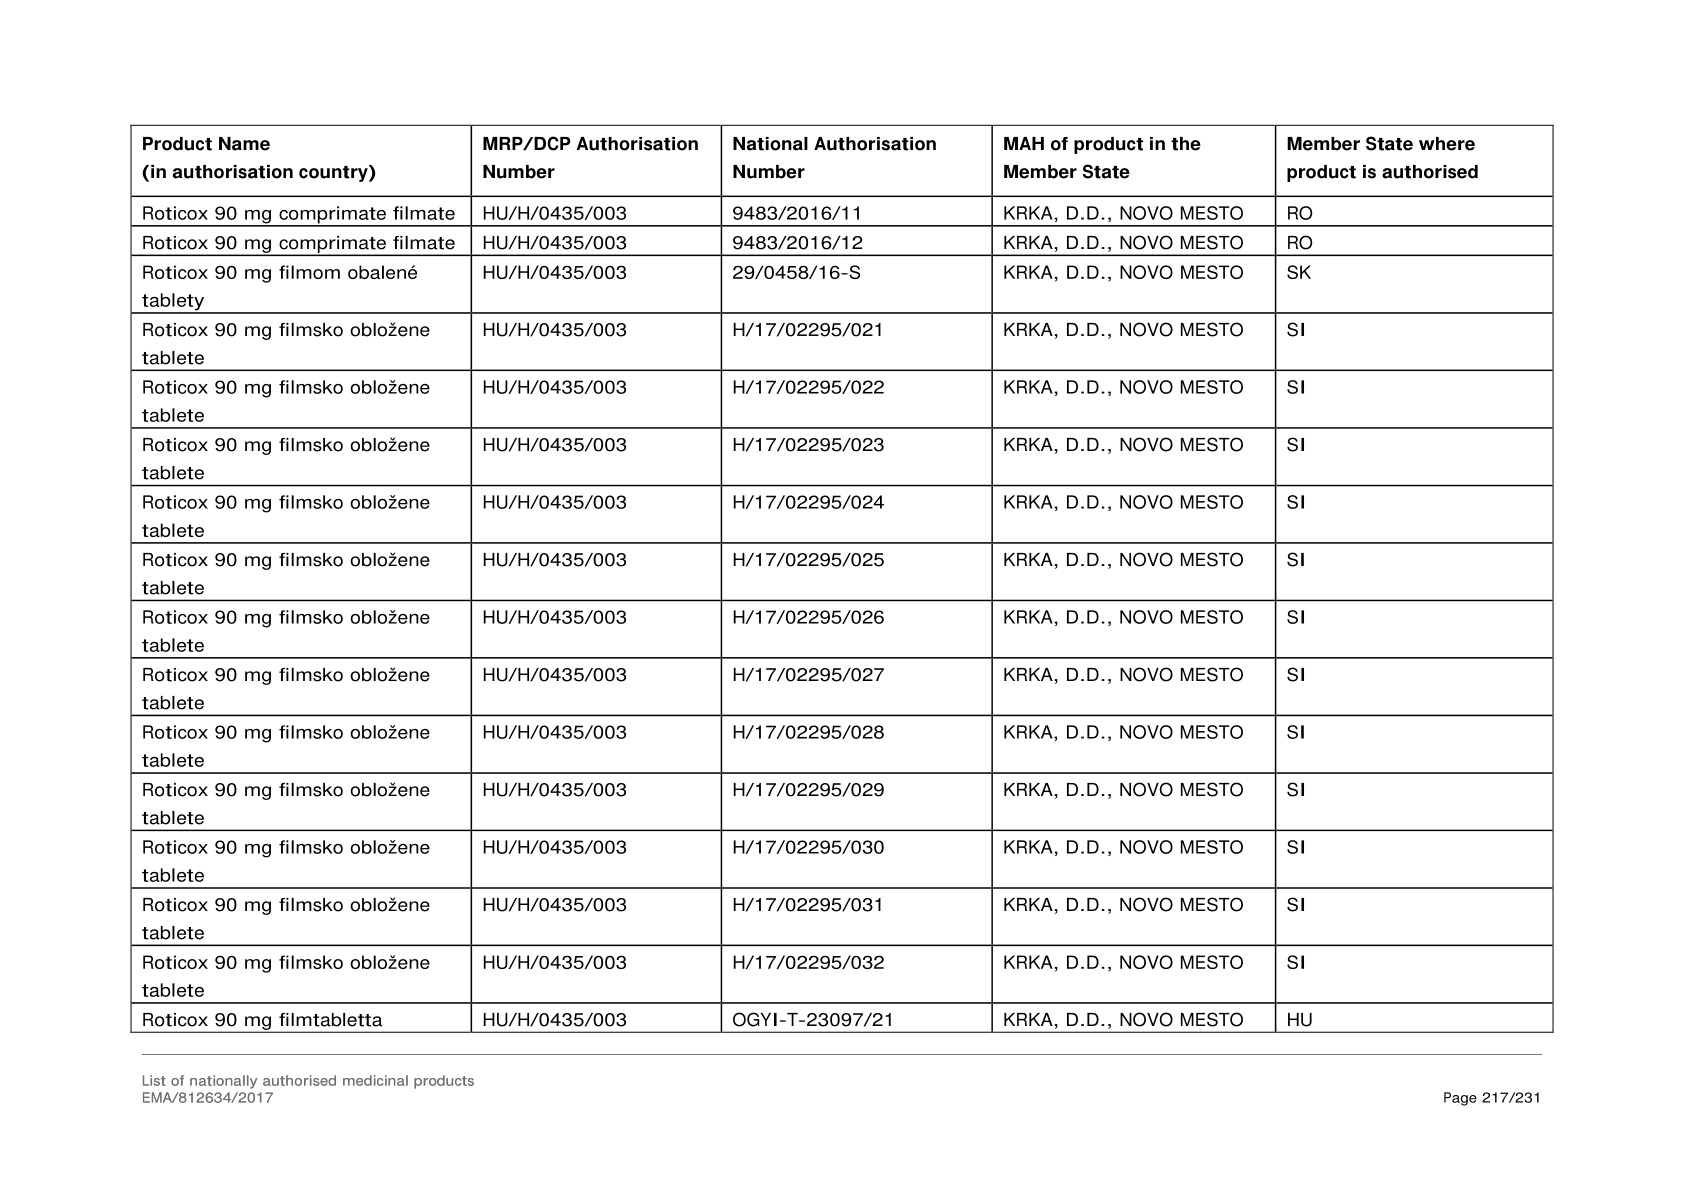full_lined: (130, 124, 1554, 1034)
